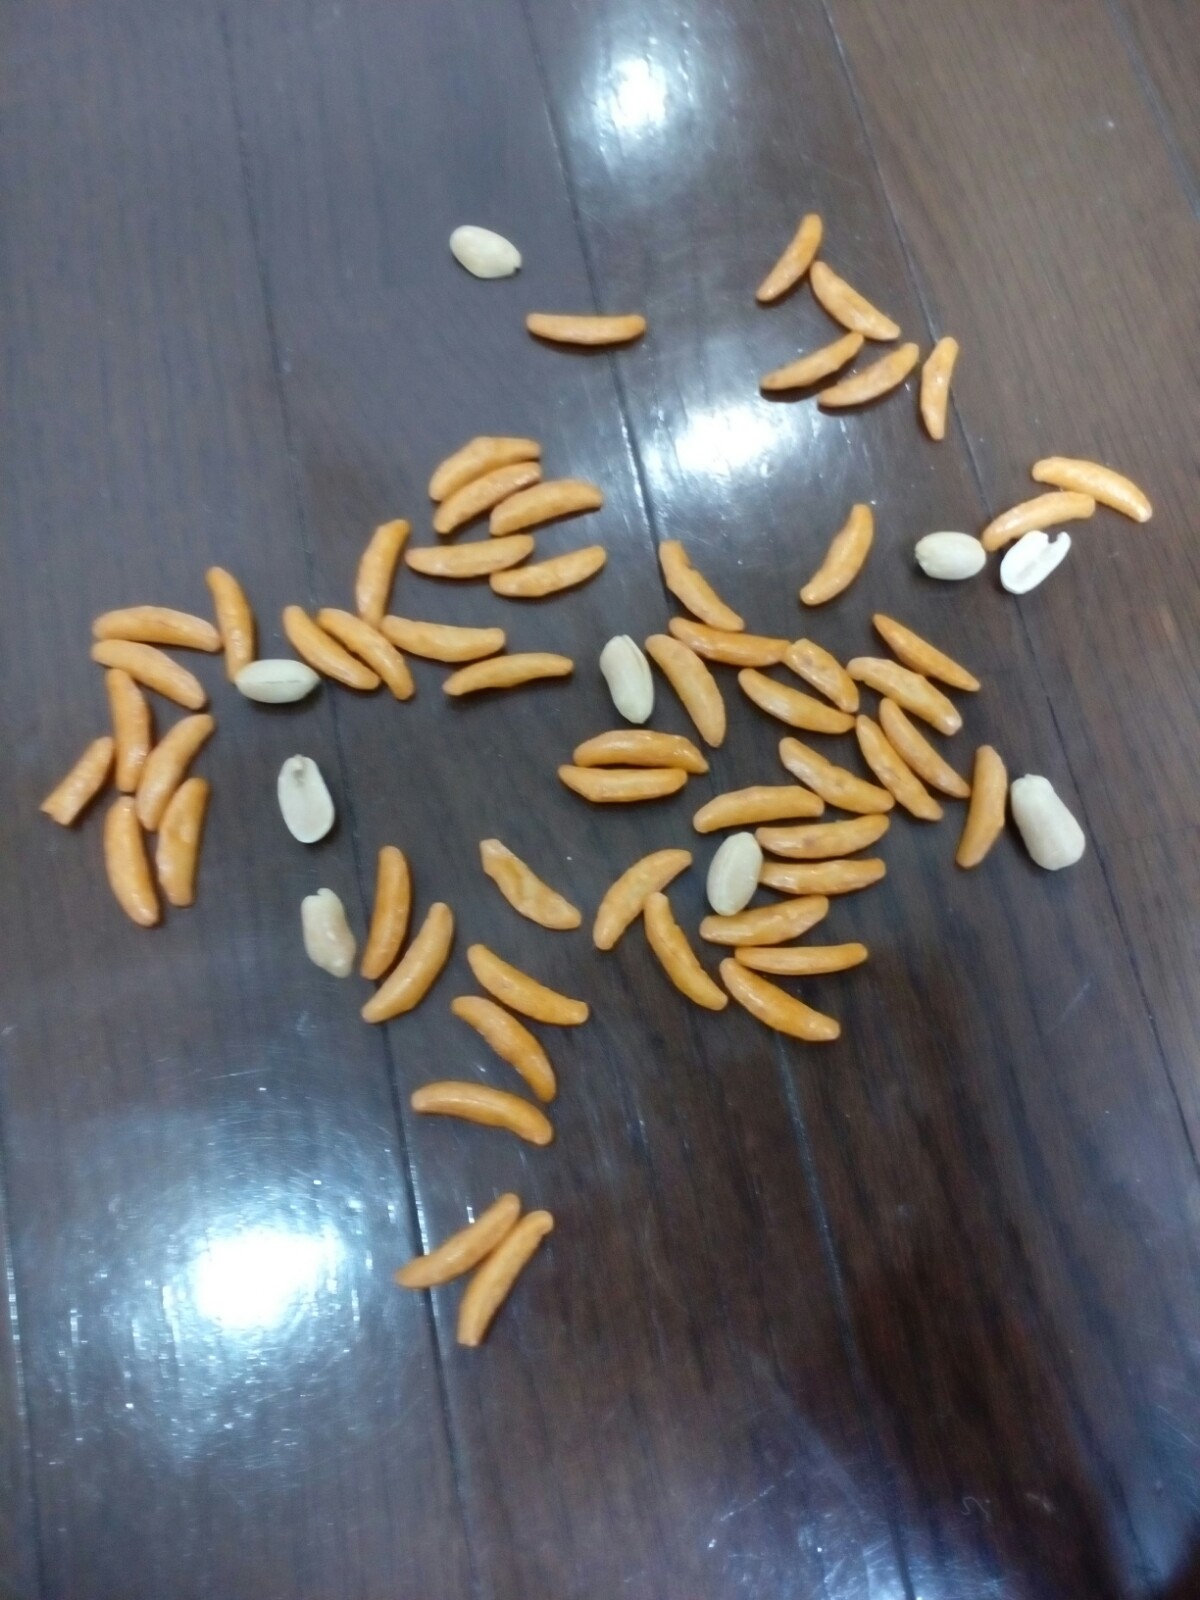peanut: (1003, 767, 1095, 879), (292, 878, 366, 991), (218, 644, 332, 708), (594, 629, 662, 736), (275, 746, 343, 850), (996, 522, 1079, 602), (707, 825, 771, 925), (909, 522, 992, 593), (447, 214, 528, 278)
